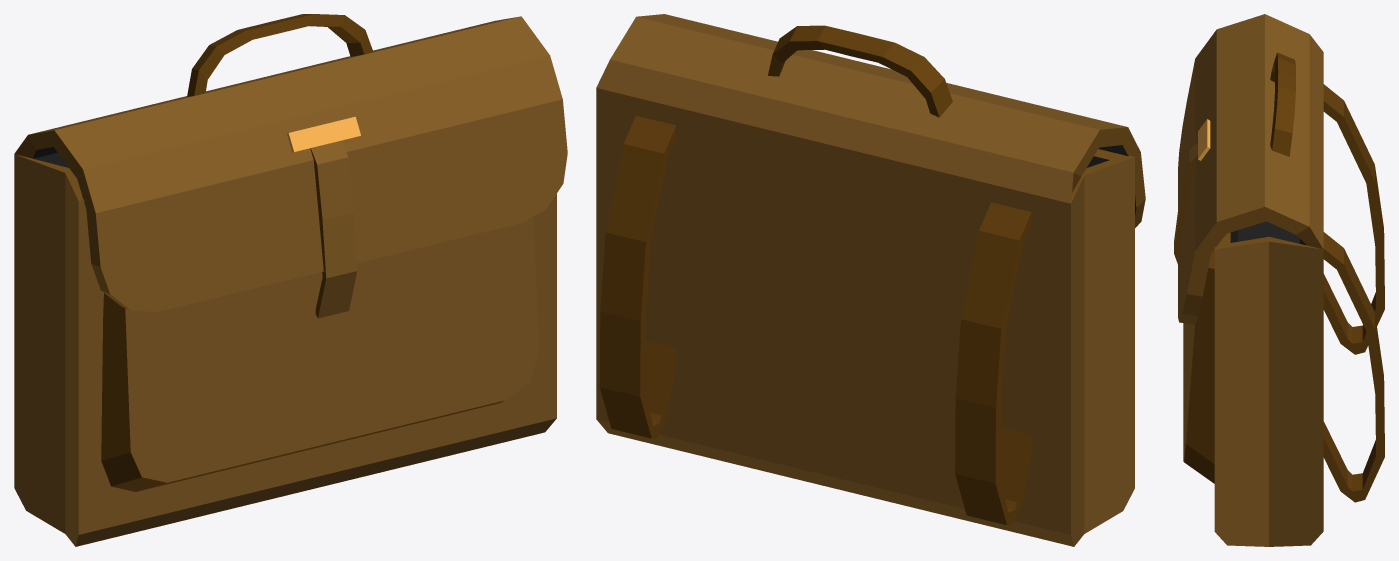
The model's file is Briefcase_2.fbx.
3 renders of one model, left to right at view 1: azimuth 30°, elevation 25°; view 2: azimuth 150°, elevation 25°; view 3: azimuth 270°, elevation 25°, orthographic. The views are drawn at different scales.
Visible parts, largest first — view 1: Briefcase_2; view 2: Briefcase_2; view 3: Briefcase_2.
Part boxes in pixels (x1,y1,x2,y2): Briefcase_2: (14,14,567,546); Briefcase_2: (596,14,1145,546); Briefcase_2: (1174,14,1384,546).
Bounding box in the file's own units: 66.41 × 60.24 × 29.97.
